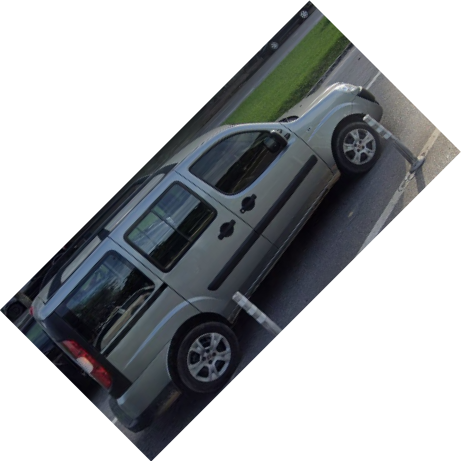car: (31, 79, 381, 426)
